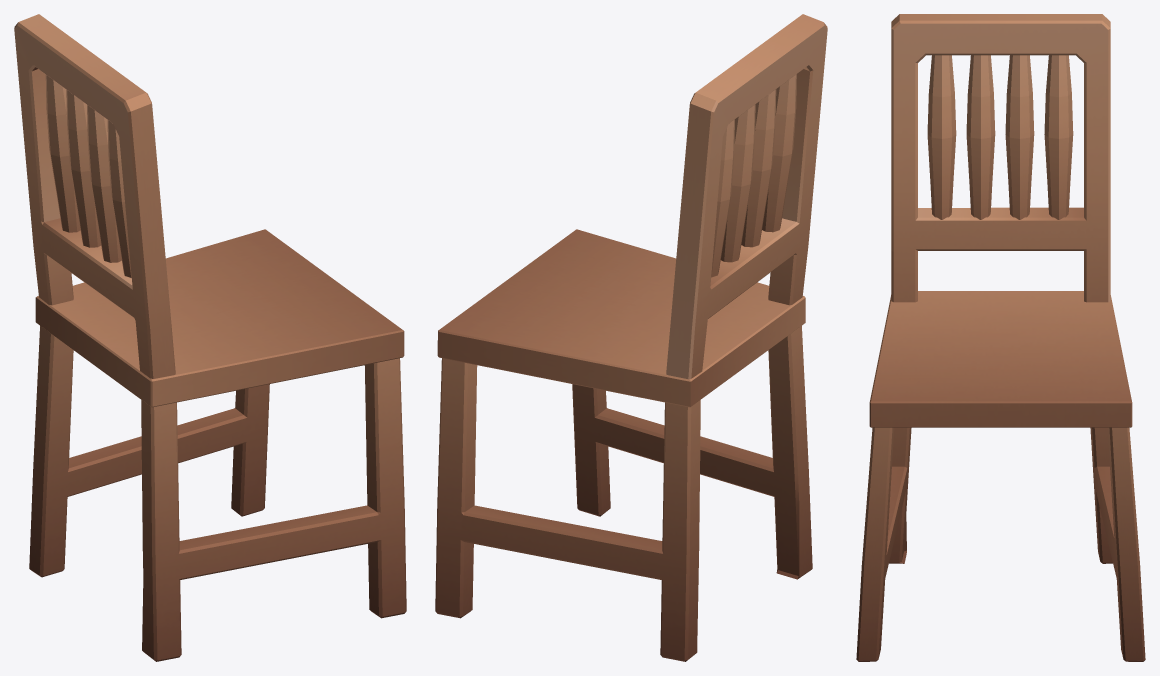
File: SM_simpleChairR.fbx
3 views of the same model, side by side, from view 1: azimuth 30°, elevation 25°; view 2: azimuth 150°, elevation 25°; view 3: azimuth 270°, elevation 25° (orthographic). The views are drawn at different scales.
Parts seen in each view (by area): view 1: chair; view 2: chair; view 3: chair.
Boxes of the visible parts, bbox=[...] form: chair: bbox=[14, 14, 406, 661]; chair: bbox=[435, 14, 827, 661]; chair: bbox=[856, 14, 1145, 661].
Bounding box in the file's own units: 445 × 905 × 445.
